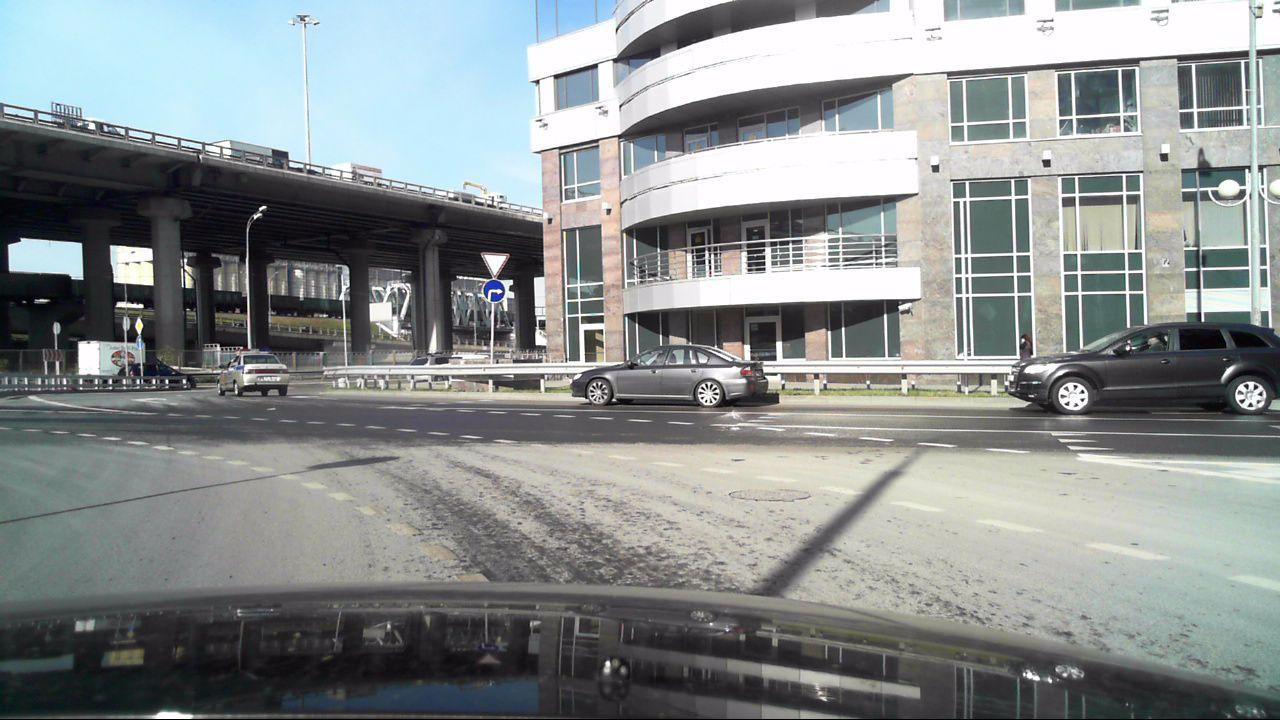1_34_1: (41, 348, 67, 362)
2_1: (135, 317, 145, 334)
2_4: (481, 251, 510, 280)
4_1_1: (135, 336, 145, 349)
4_1_2: (480, 280, 506, 303)
